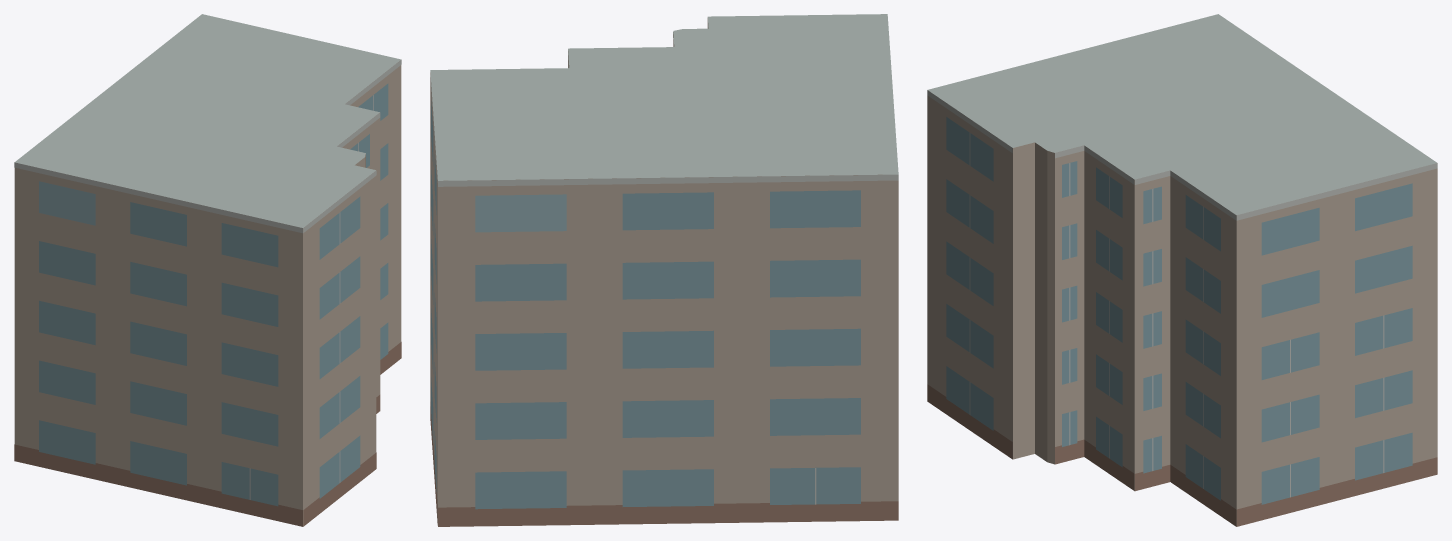
File: survey-upis-32970636.glb
The picture shows the model from 3 angles, left to right: view 1: azimuth 30°, elevation 25°; view 2: azimuth 150°, elevation 25°; view 3: azimuth 270°, elevation 25°; orthographic projection. The views are drawn at different scales.
Visible parts, largest first — view 1: survey-upis-32970636.tmp; view 2: survey-upis-32970636.tmp; view 3: survey-upis-32970636.tmp.
Part boxes in pixels (x1,y1,x2,y2): survey-upis-32970636.tmp: [14, 14, 401, 526]; survey-upis-32970636.tmp: [430, 14, 898, 526]; survey-upis-32970636.tmp: [927, 14, 1437, 526].
Bounding box in the file's own units: 19.41 × 14 × 20.79.
